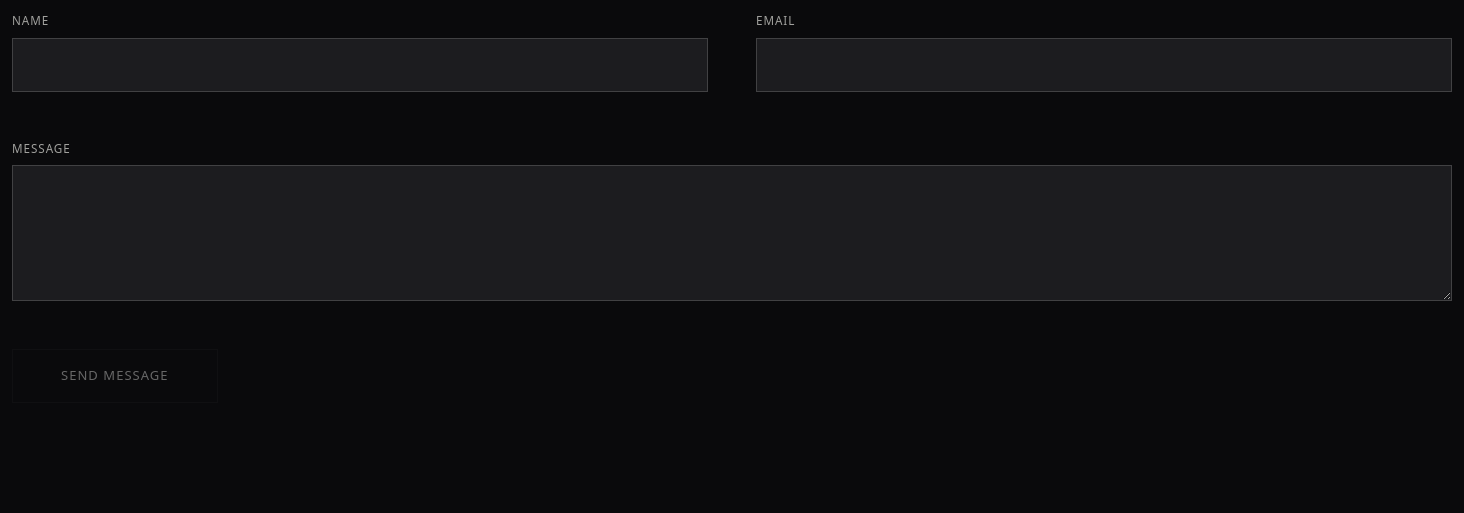
Test: ContactForm › shows an accessible error state when the request fails
Type "Ada Lovelace" into the field with test id "contact-name-input" at [360, 65], box top-left (12, 38), bottom-right (708, 92)
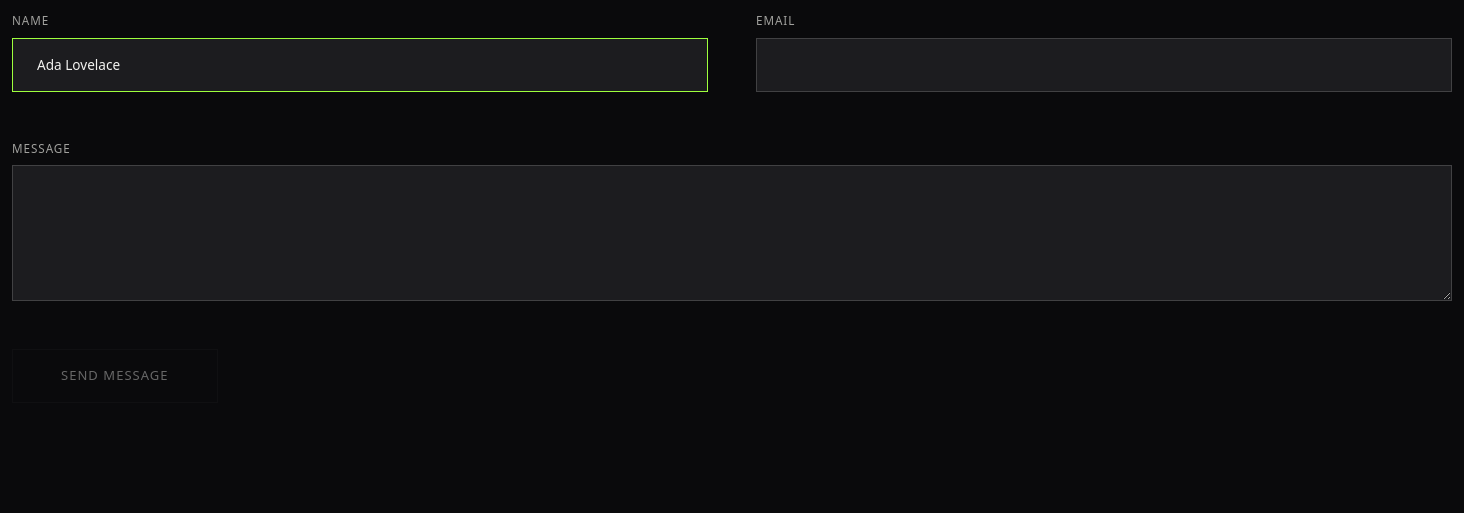
Type "ada@example.com" into the field with test id "contact-email-input" at [1104, 65], box top-left (756, 38), bottom-right (1452, 92)
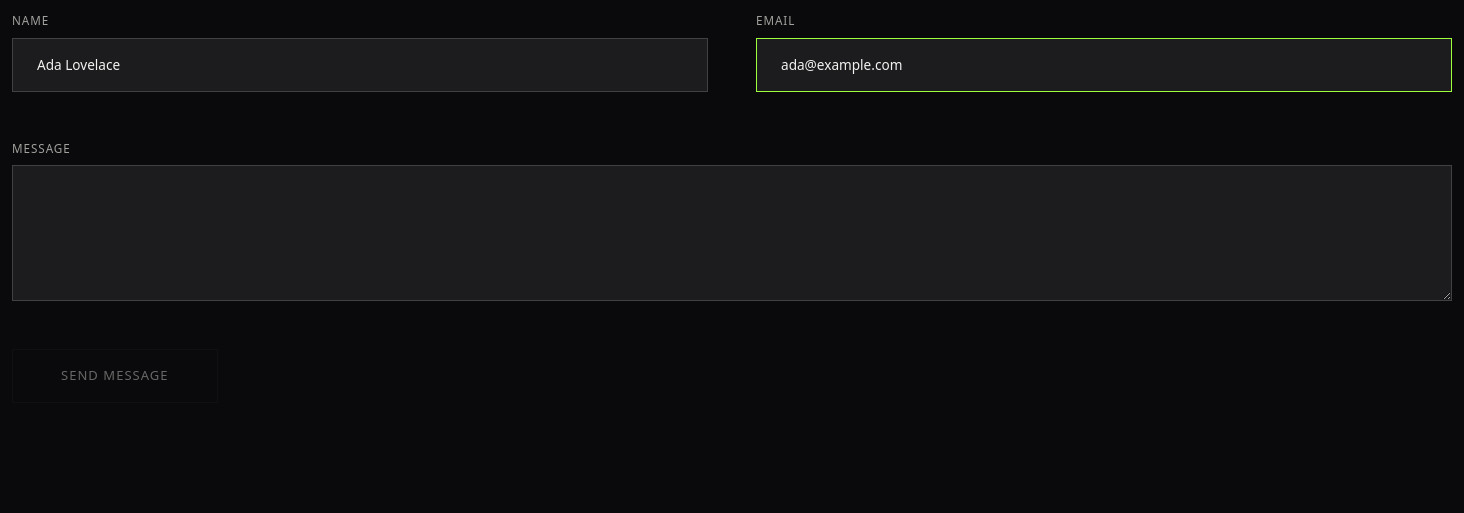
Type "Hello there" into the text box with test id "contact-message-input" at [732, 234], box top-left (12, 166), bottom-right (1452, 302)
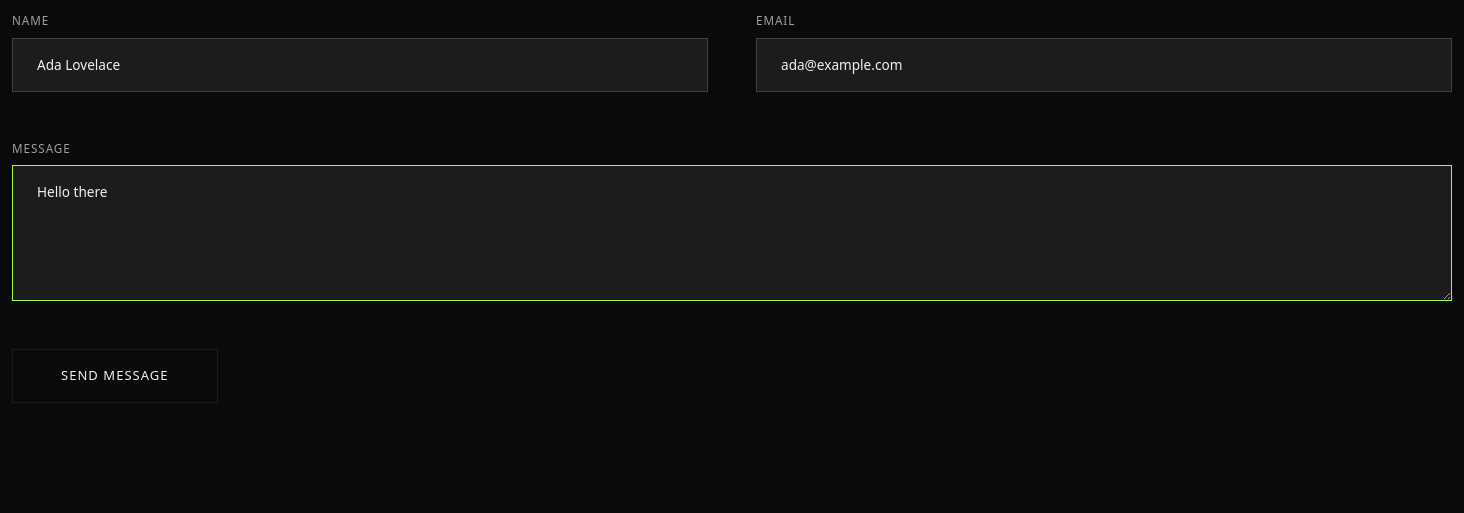
Click the button with test id "contact-submit" at [115, 376], box top-left (12, 349), bottom-right (218, 403)
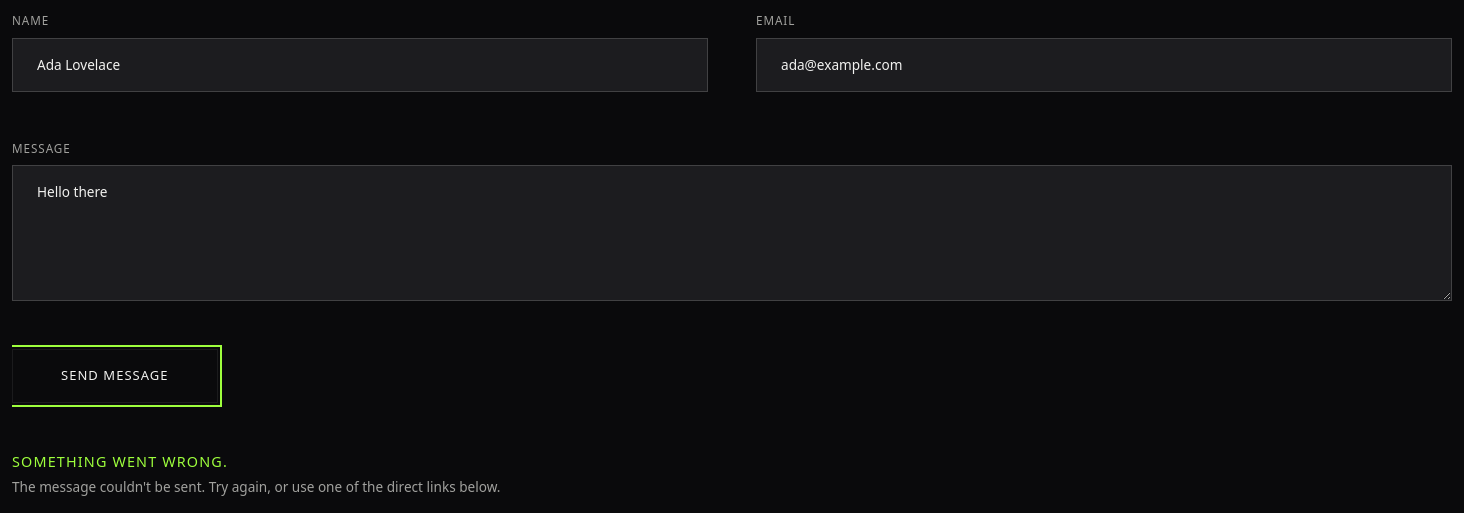
Result: the message is shown at top-left (12, 452), bottom-right (500, 496)
